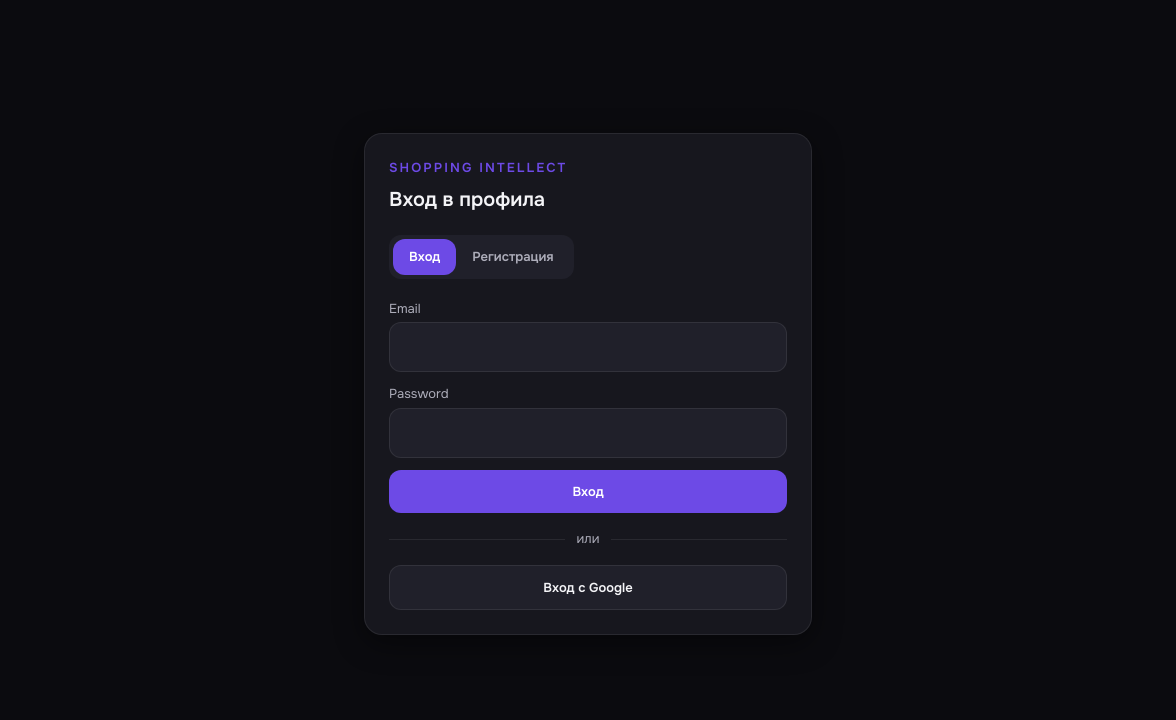
Test: login success shows lists overview and invalid credentials stay on auth
The image size is (1176, 720).
Type "mila@example.com" into the field labelled "Email". click: x=588, y=347
box: [389, 322, 787, 372]
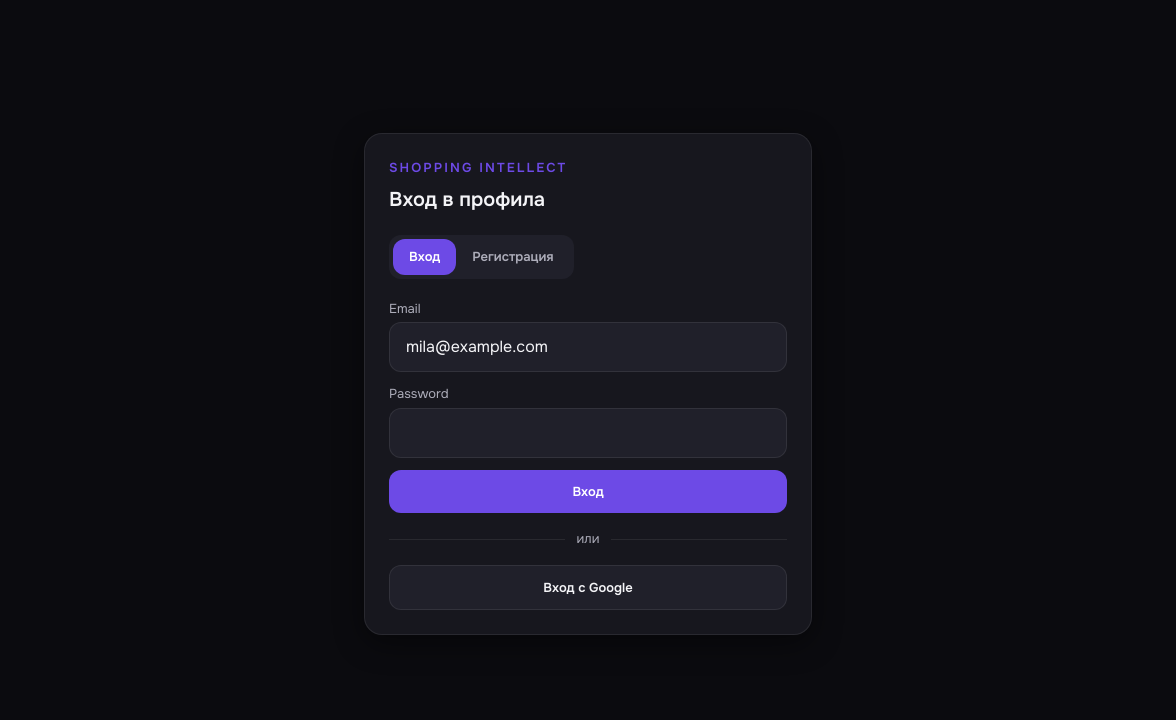
Type "bad-pass" into the password field labelled "Password". click: x=588, y=433
box: [389, 408, 787, 458]
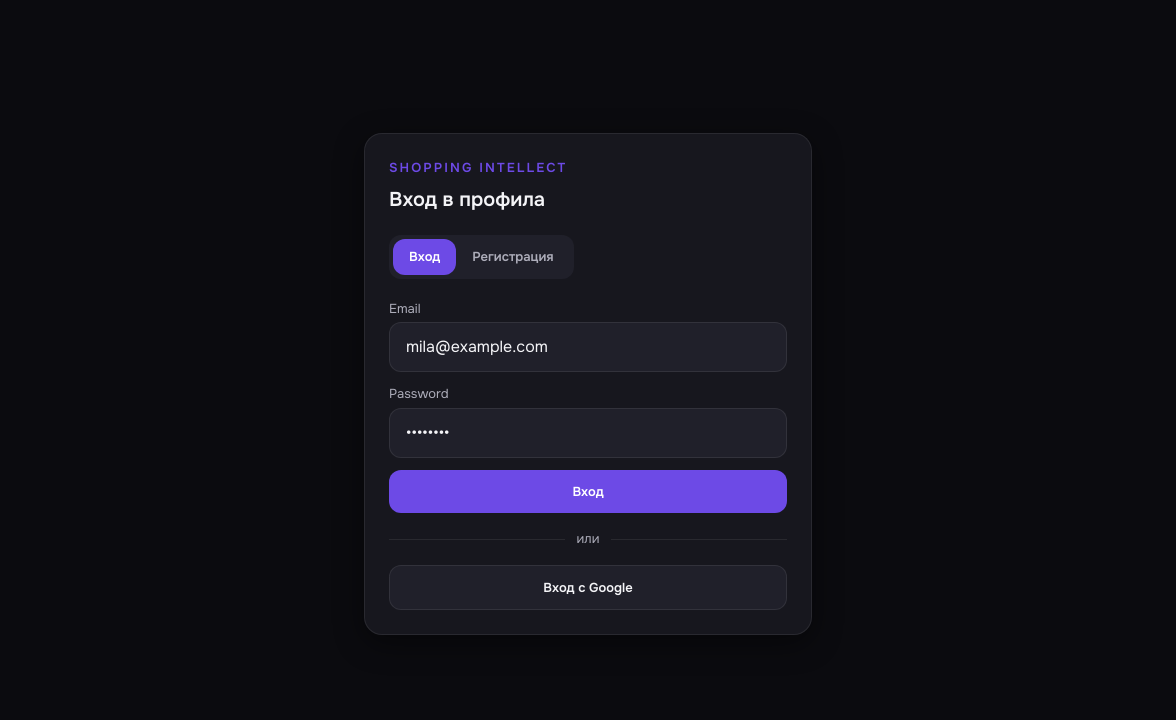
Click the button with aria-label "Submit log in". click: x=588, y=492
box: [389, 470, 787, 513]
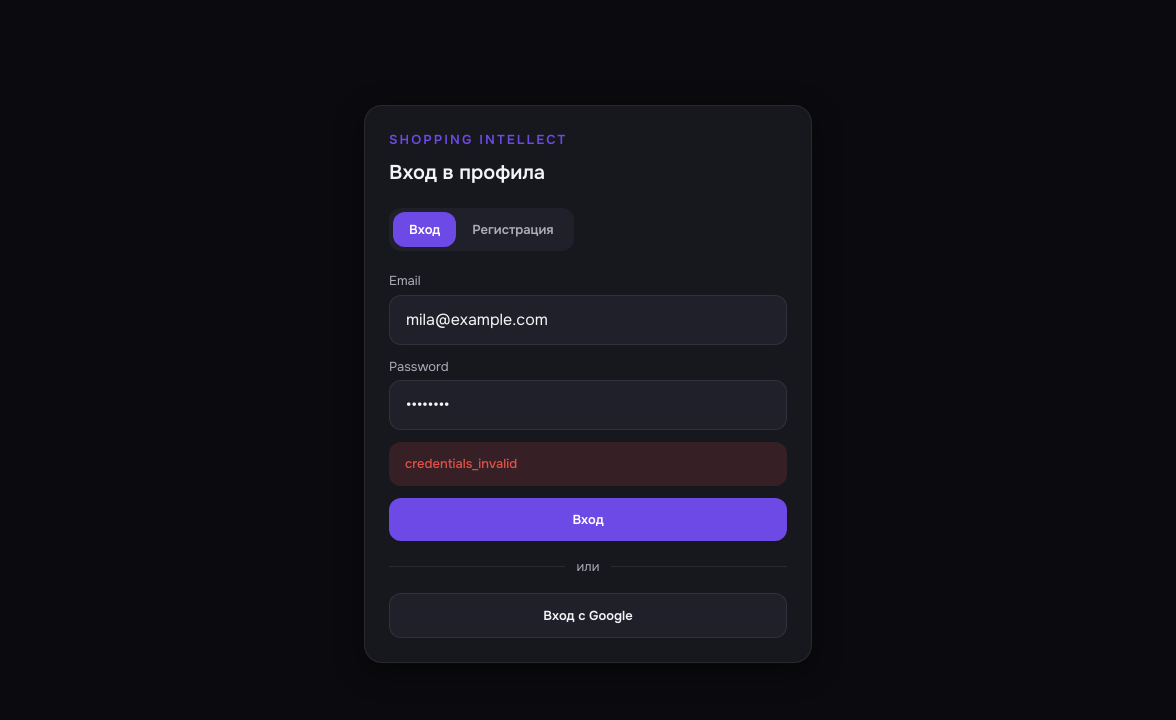
Check: the message reads "credentials_invalid", box [405, 455, 517, 472]
Type "good-pass" into the password field labelled "Password". click: x=588, y=405
box: [389, 380, 787, 430]
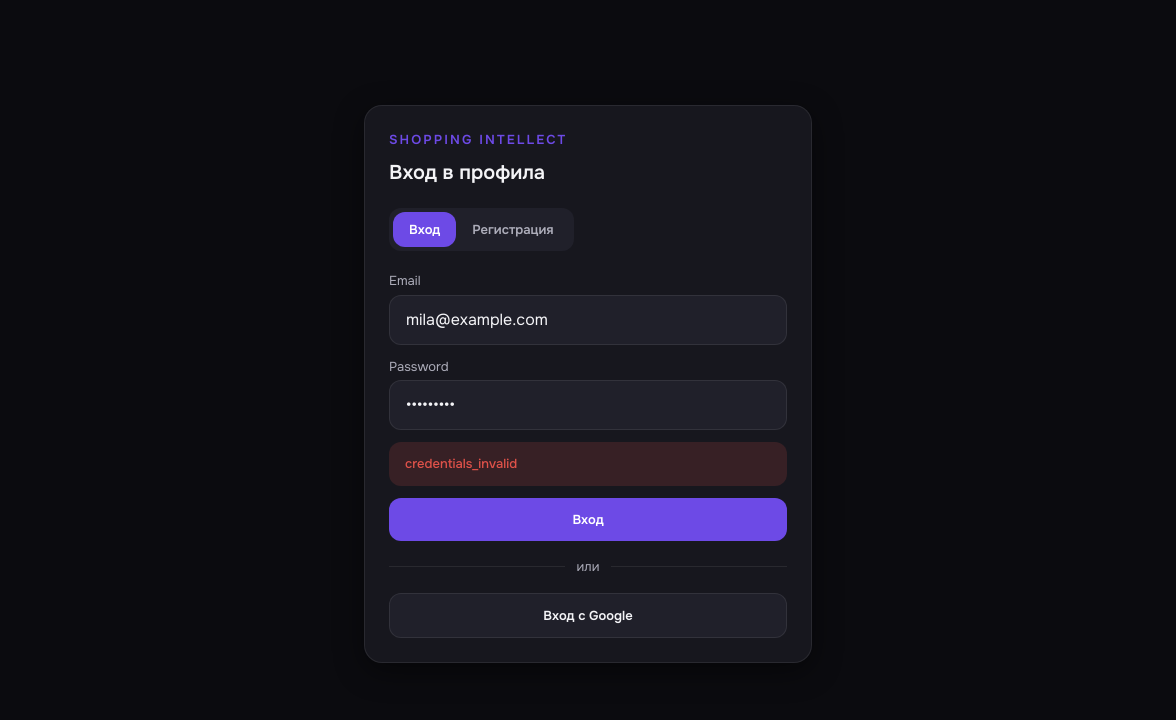
Click the button with aria-label "Submit log in". click: x=588, y=519
box: [389, 498, 787, 541]
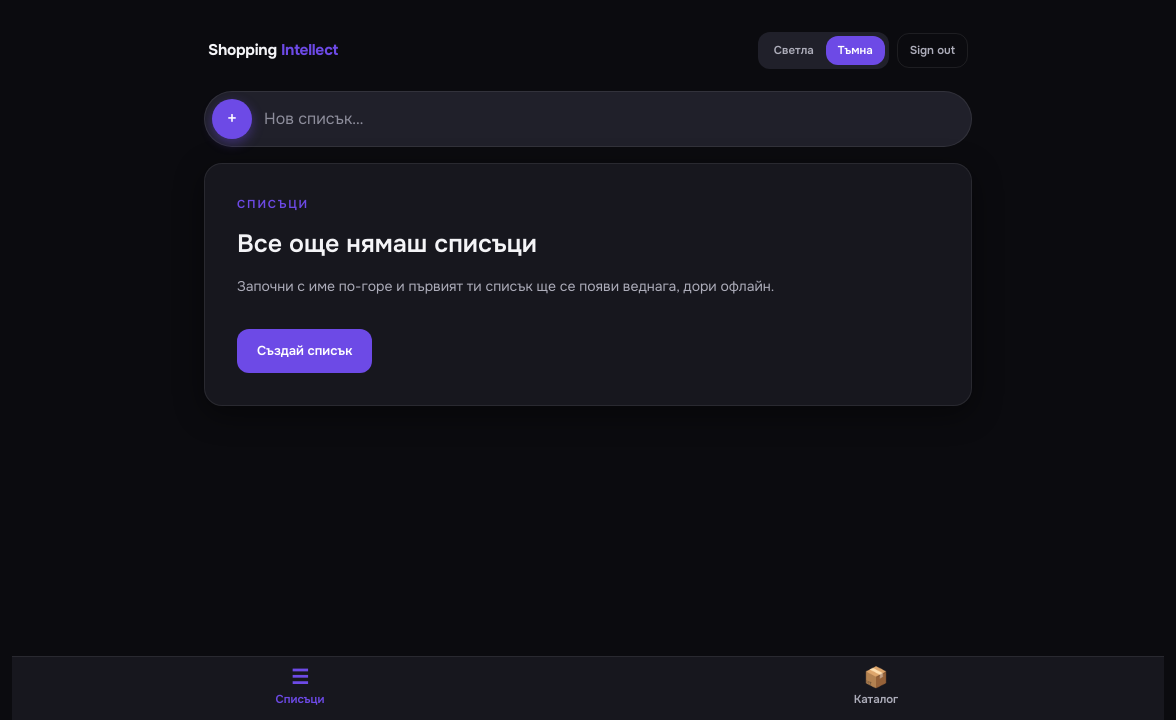
Check: the heading "Все още нямаш списъци" is shown, box [237, 228, 537, 260]
